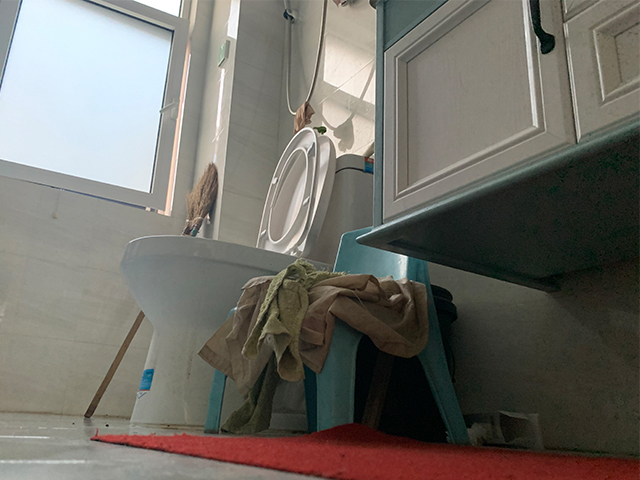carpet: (89, 423, 640, 479)
closestool: (119, 125, 375, 431)
stool: (198, 225, 476, 447)
